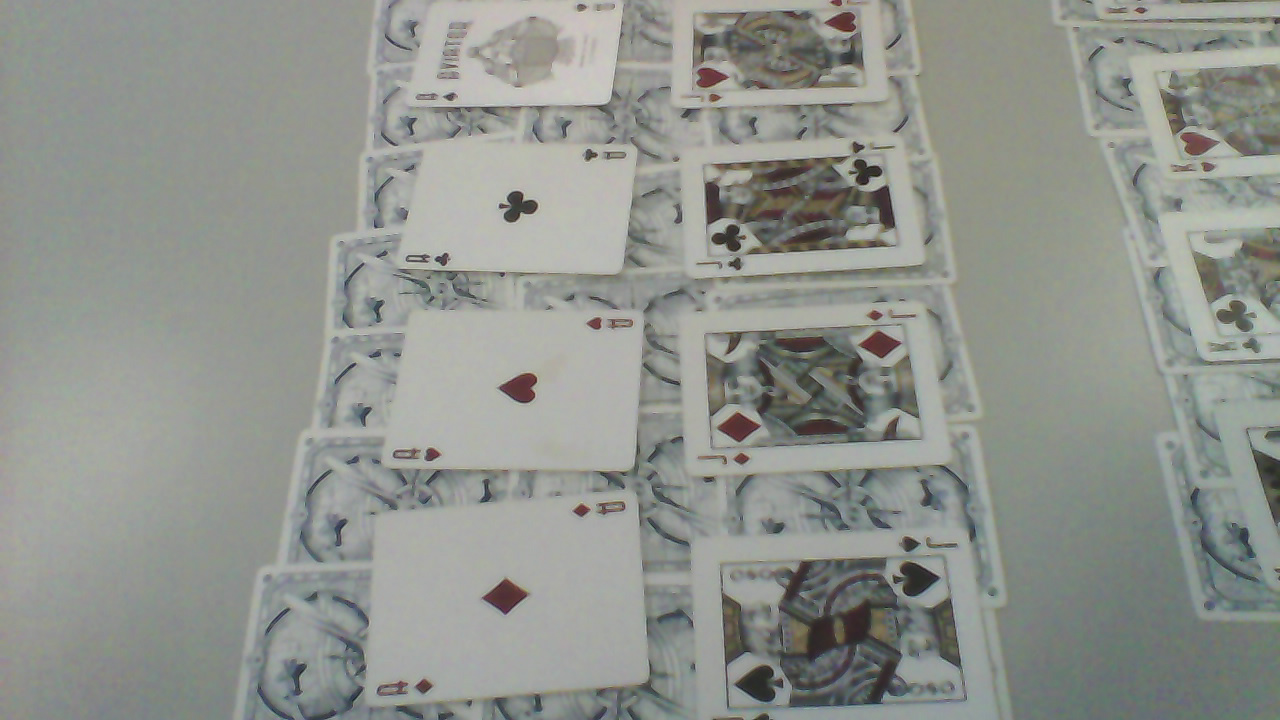ace_clubs: (399, 147, 641, 280)
ace_diamonds: (368, 496, 655, 712)
ace_hearts: (386, 312, 647, 476)
ace_spades: (418, 6, 630, 113)
jack_clubs: (683, 137, 922, 280)
jack_diamonds: (681, 305, 954, 479)
jack_hearts: (676, 5, 895, 111)
jack_spades: (698, 531, 1004, 720)
